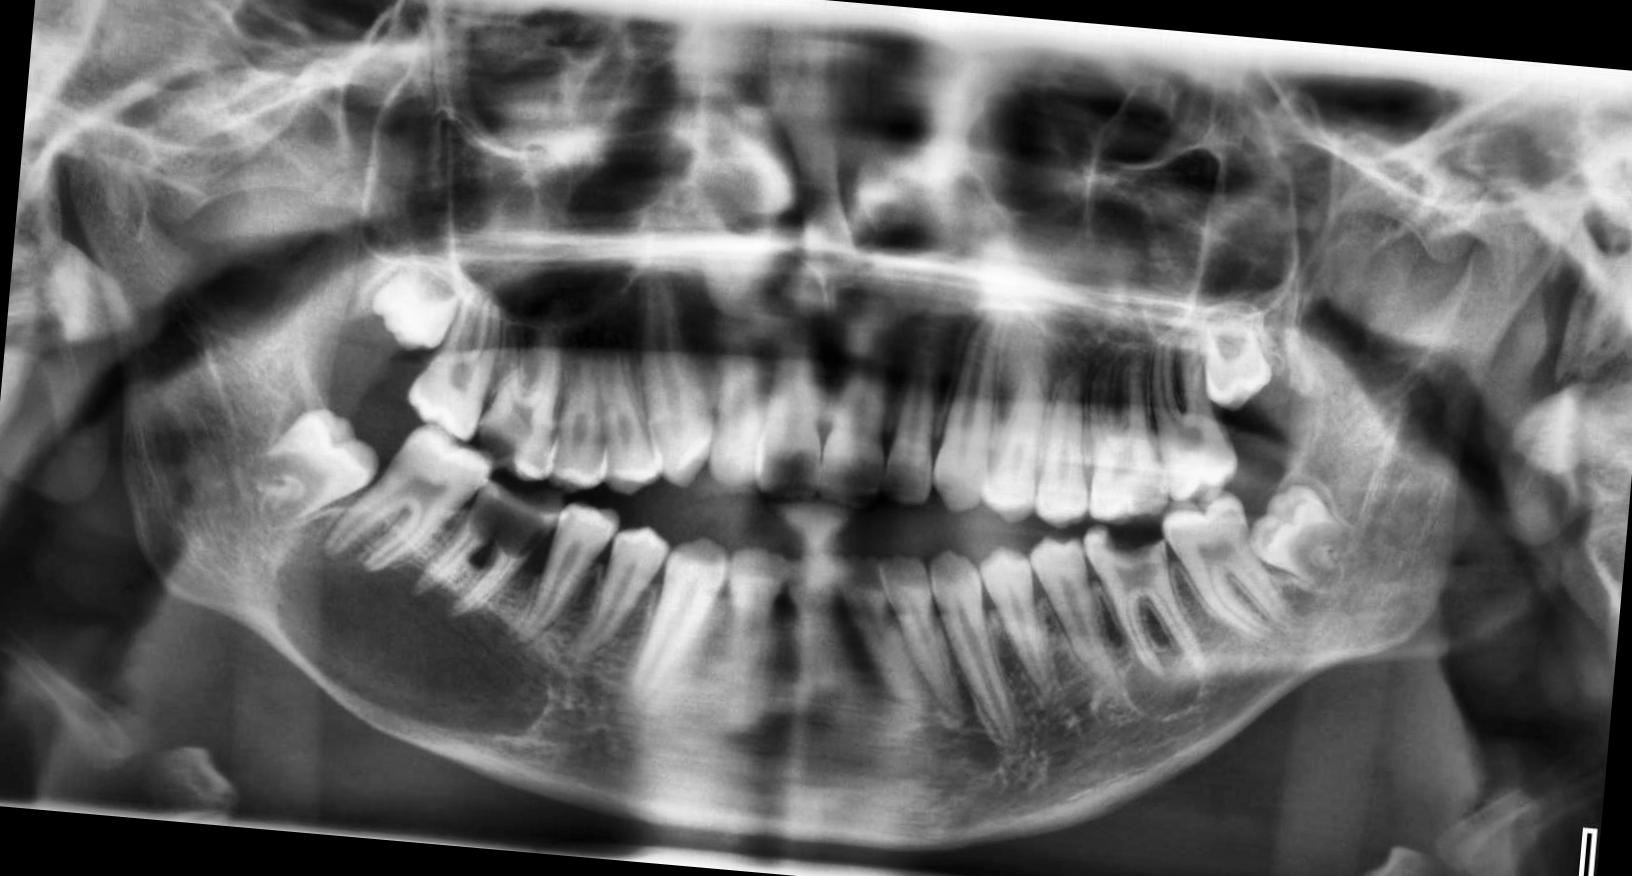radikuler: (264, 503, 566, 740), (1117, 640, 1212, 729)
